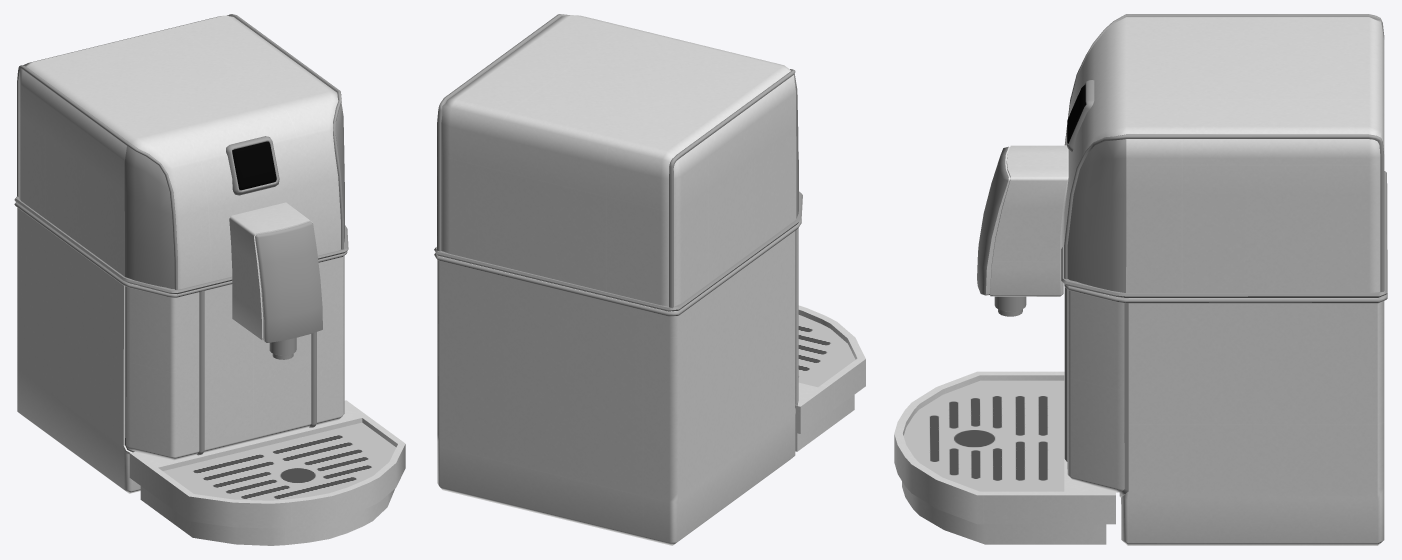
The model's file is coffee_machine_4_coffee_machine_4.obj.
3 views of the same model, side by side, from view 1: azimuth 30°, elevation 25°; view 2: azimuth 150°, elevation 25°; view 3: azimuth 270°, elevation 25° (orthographic). The views are drawn at different scales.
Bounding box in the file's own units: 0.2872 × 0.4367 × 0.4712.
